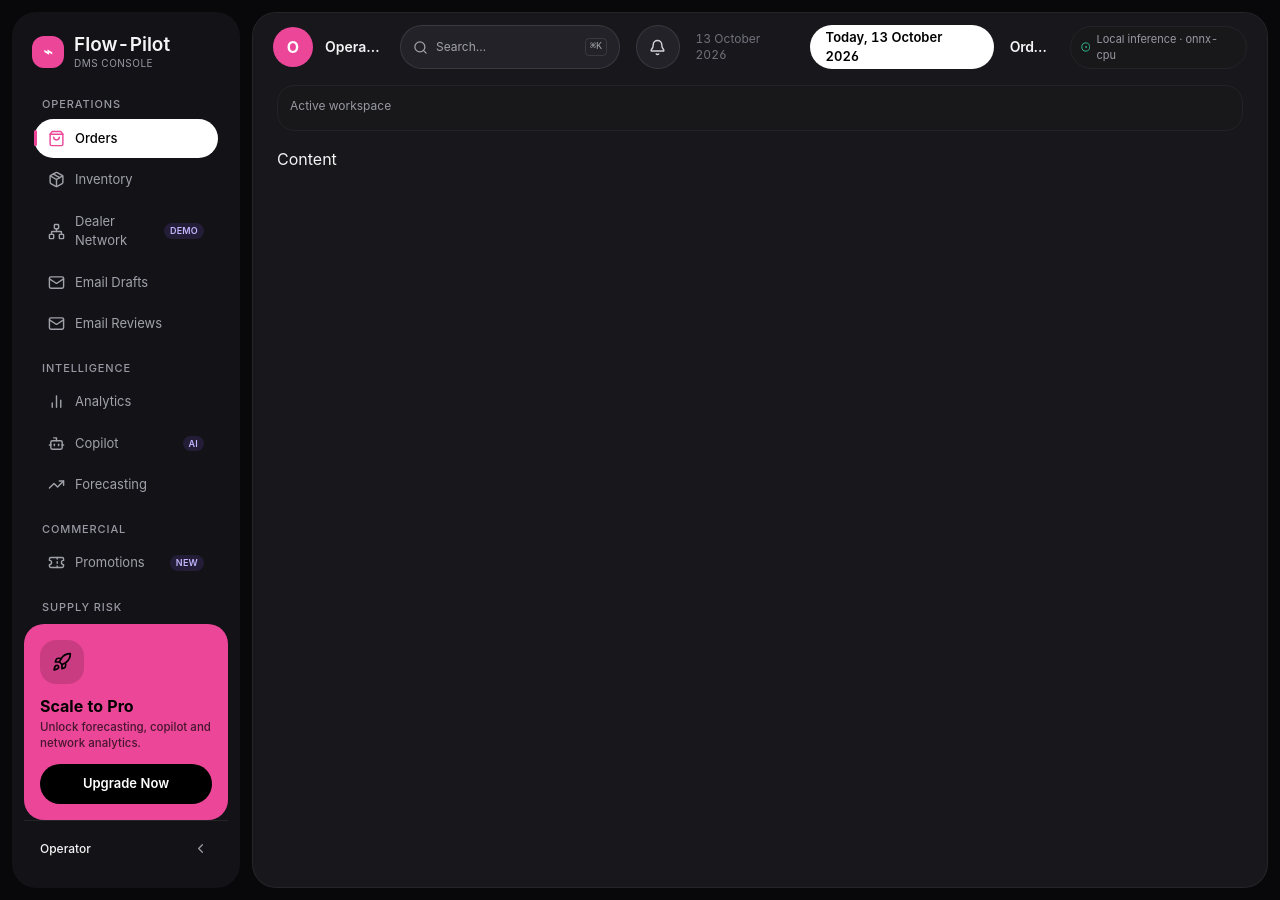
it: palette filtering and Enter navigate; empty results are announced
This screenshot has width=1280, height=900.
Press k
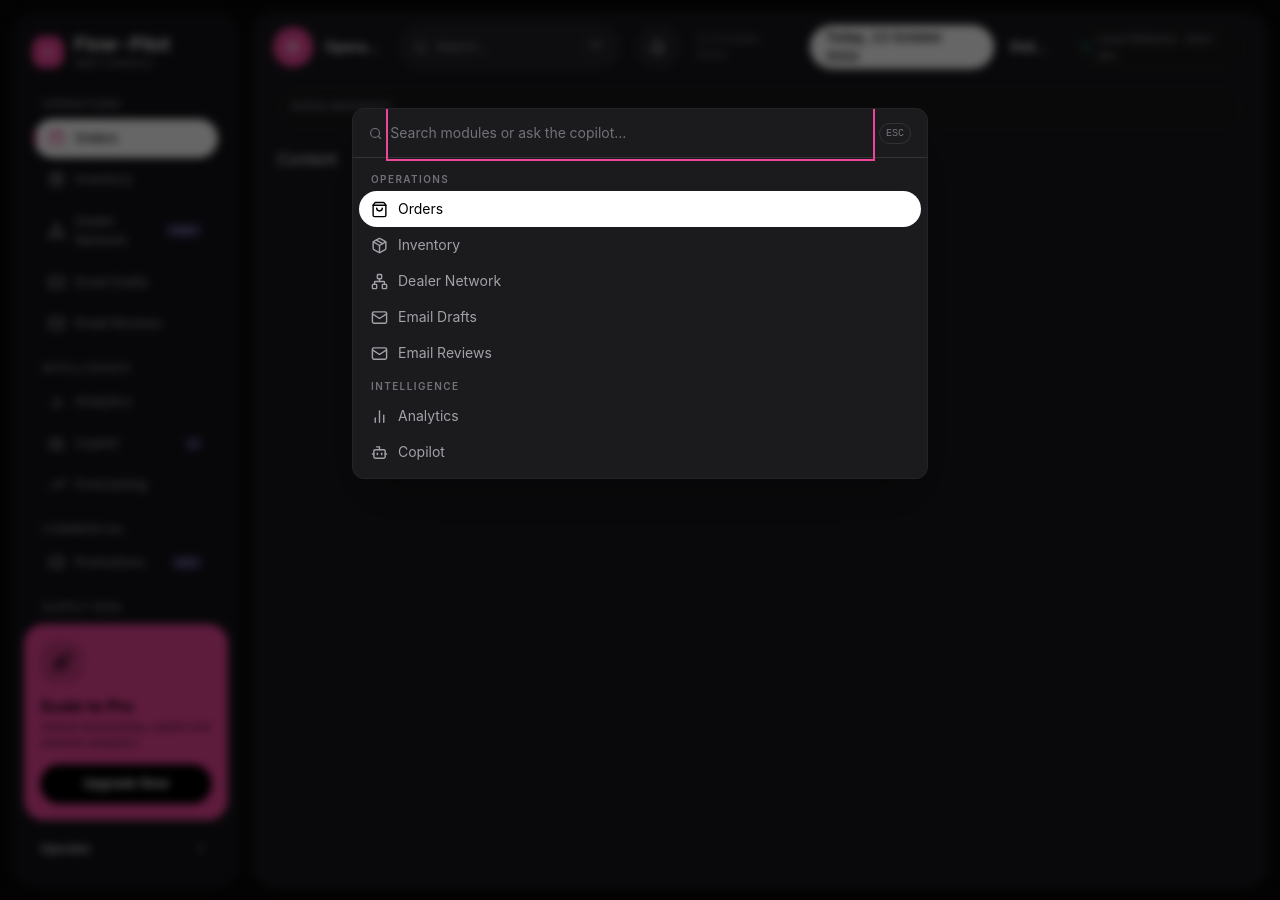
Type "not-a-command" into the dropdown.
click(631, 133); type("not-a-command")  # box x1=390 y1=109 x2=871 y2=157
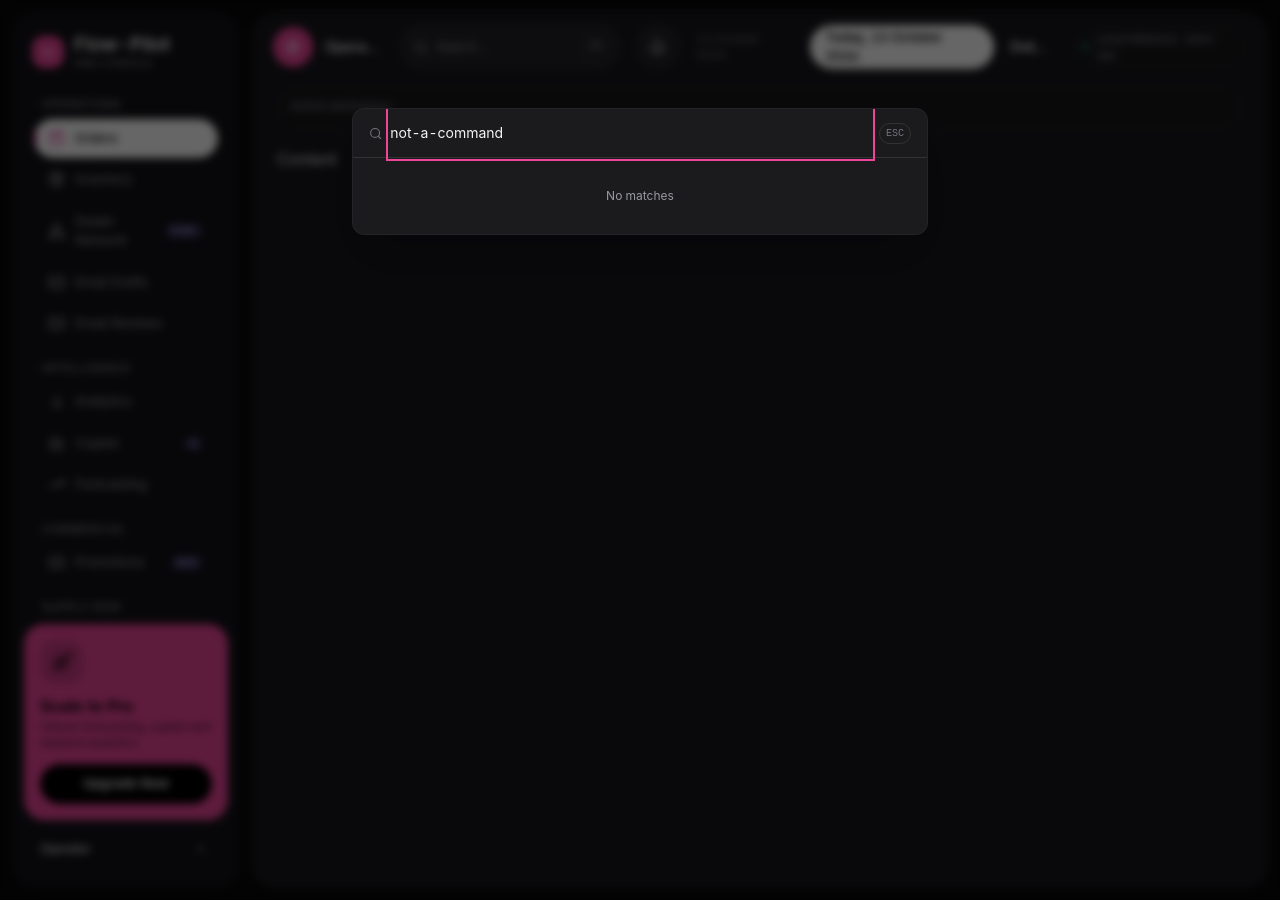
Expected: the message reads "No matches", x1=606 y1=188 x2=674 y2=203
Press ArrowDown in the dropdown, box x1=390 y1=109 x2=871 y2=157
Expected: the dropdown does not have attribute aria-activedescendant
Replace the text in the dropdown with "Analytics" at (631, 133), box x1=390 y1=109 x2=871 y2=157
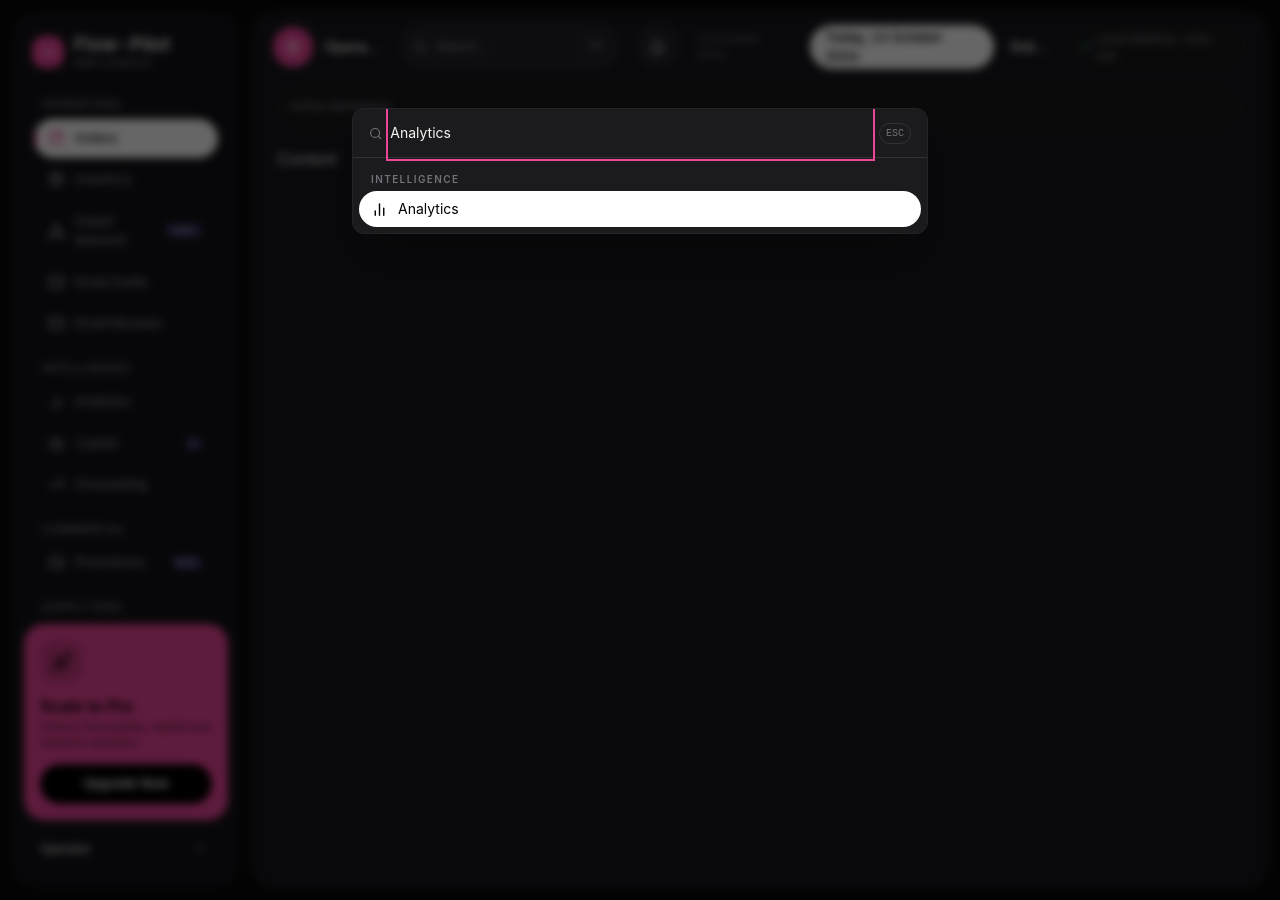
Press Enter in the dropdown, box x1=390 y1=109 x2=871 y2=157
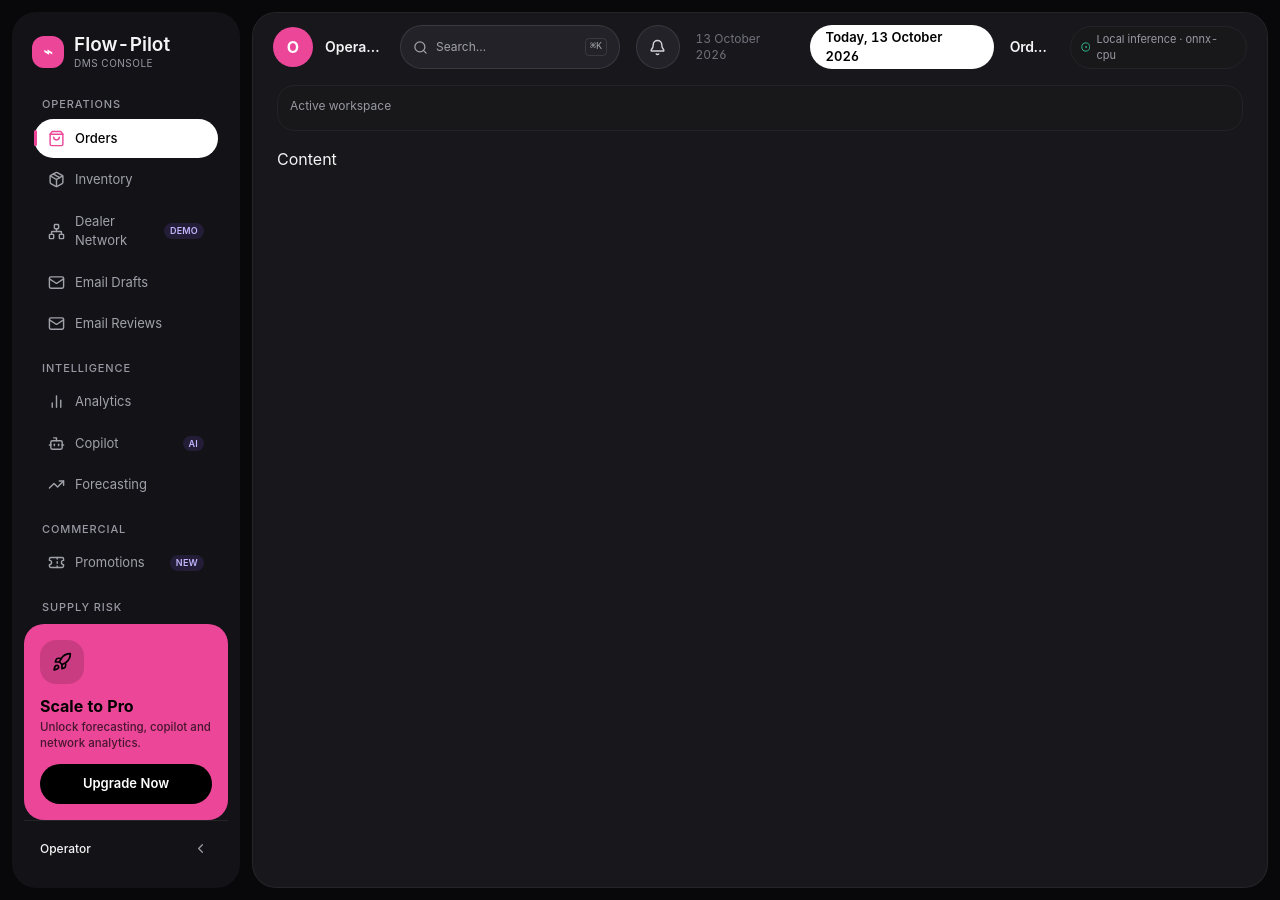
Expected: the dialog is gone
